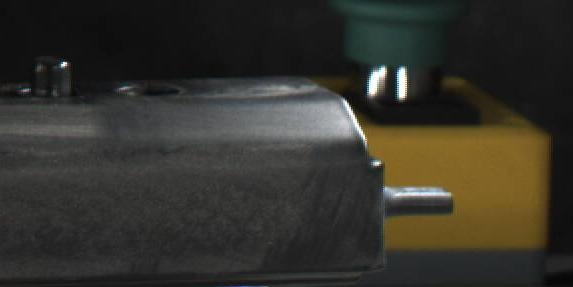rubber: (379, 181, 458, 218)
screw: (29, 54, 72, 99)
